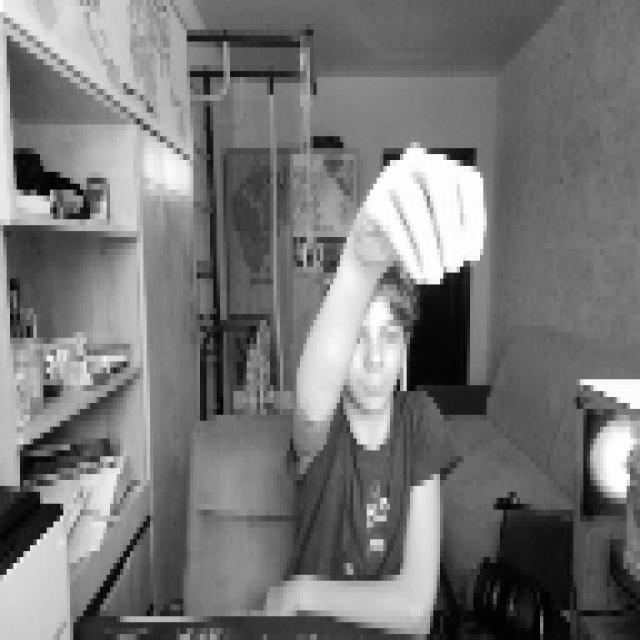left_click: (360, 130, 487, 284)
